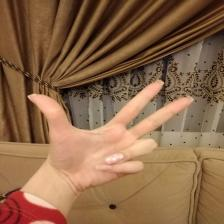three: (24, 78, 195, 189)
